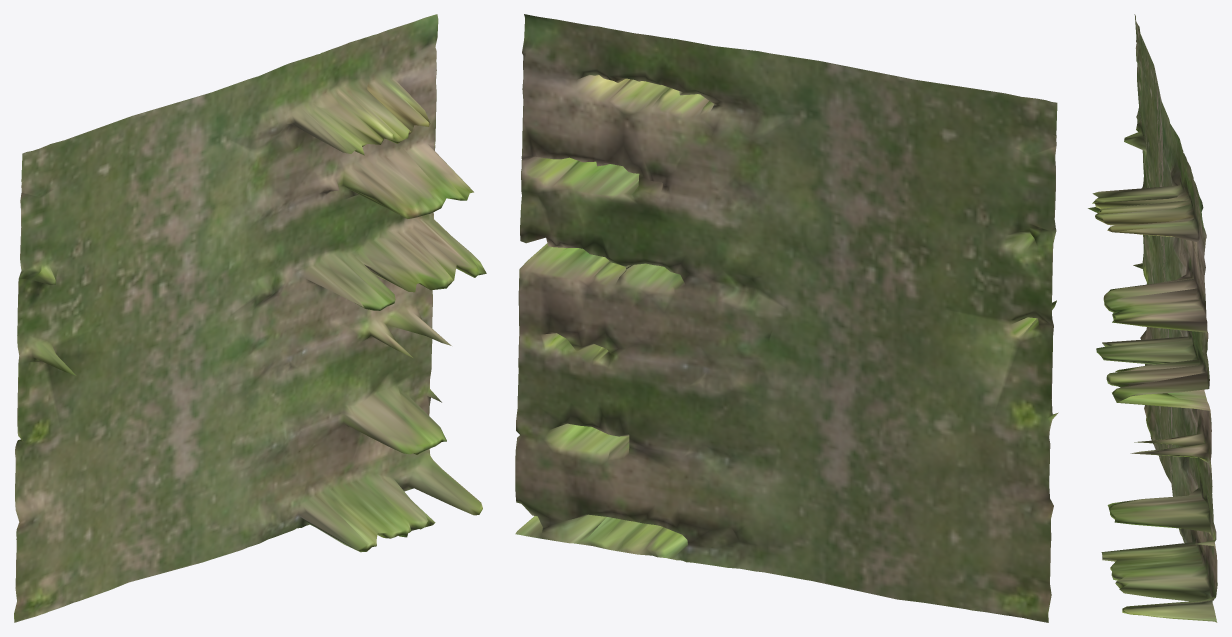
File: map_120_10.obj
3 renders of one model, left to right at view 1: azimuth 30°, elevation 25°; view 2: azimuth 150°, elevation 25°; view 3: azimuth 270°, elevation 25°, orthographic. The views are drawn at different scales.
Parts seen in each view (by area): view 1: map_120_10.obj; view 2: map_120_10.obj; view 3: map_120_10.obj.
Part boxes in pixels (<box>): map_120_10.obj: <box>14,14,486,622</box>; map_120_10.obj: <box>515,14,1058,622</box>; map_120_10.obj: <box>1088,14,1217,622</box>.
Bounding box in the file's own units: 10 × 10 × 2.84.
1 material, 1 textured.
